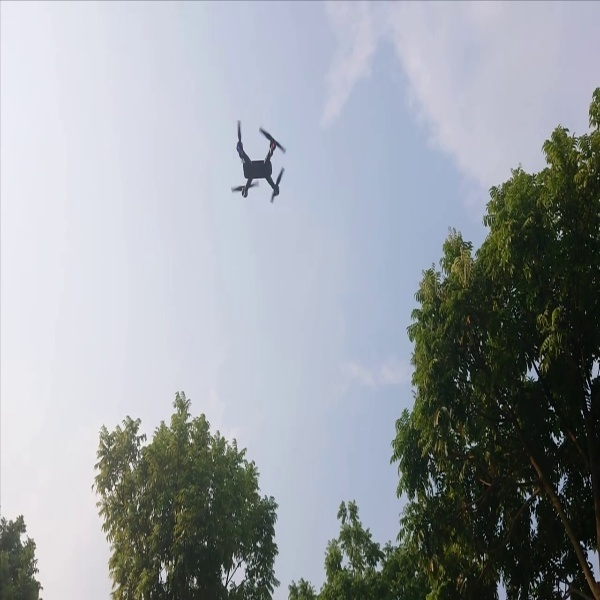drone: (218, 117, 294, 203)
